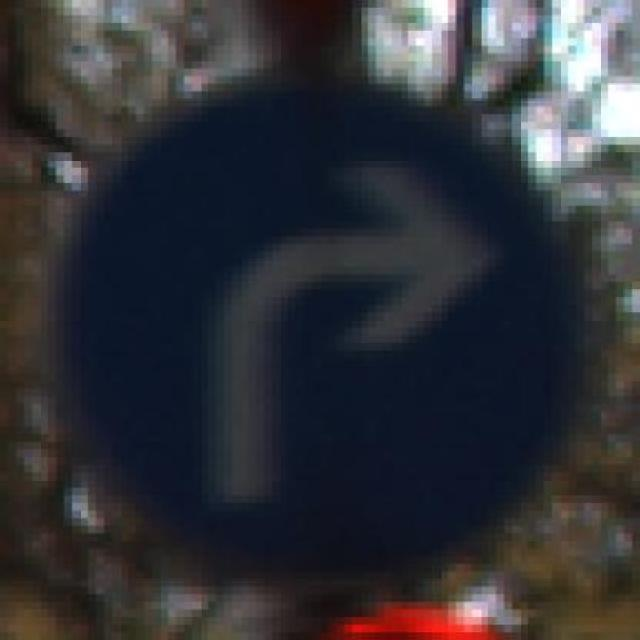Turn right ahead: (56, 76, 584, 587)
